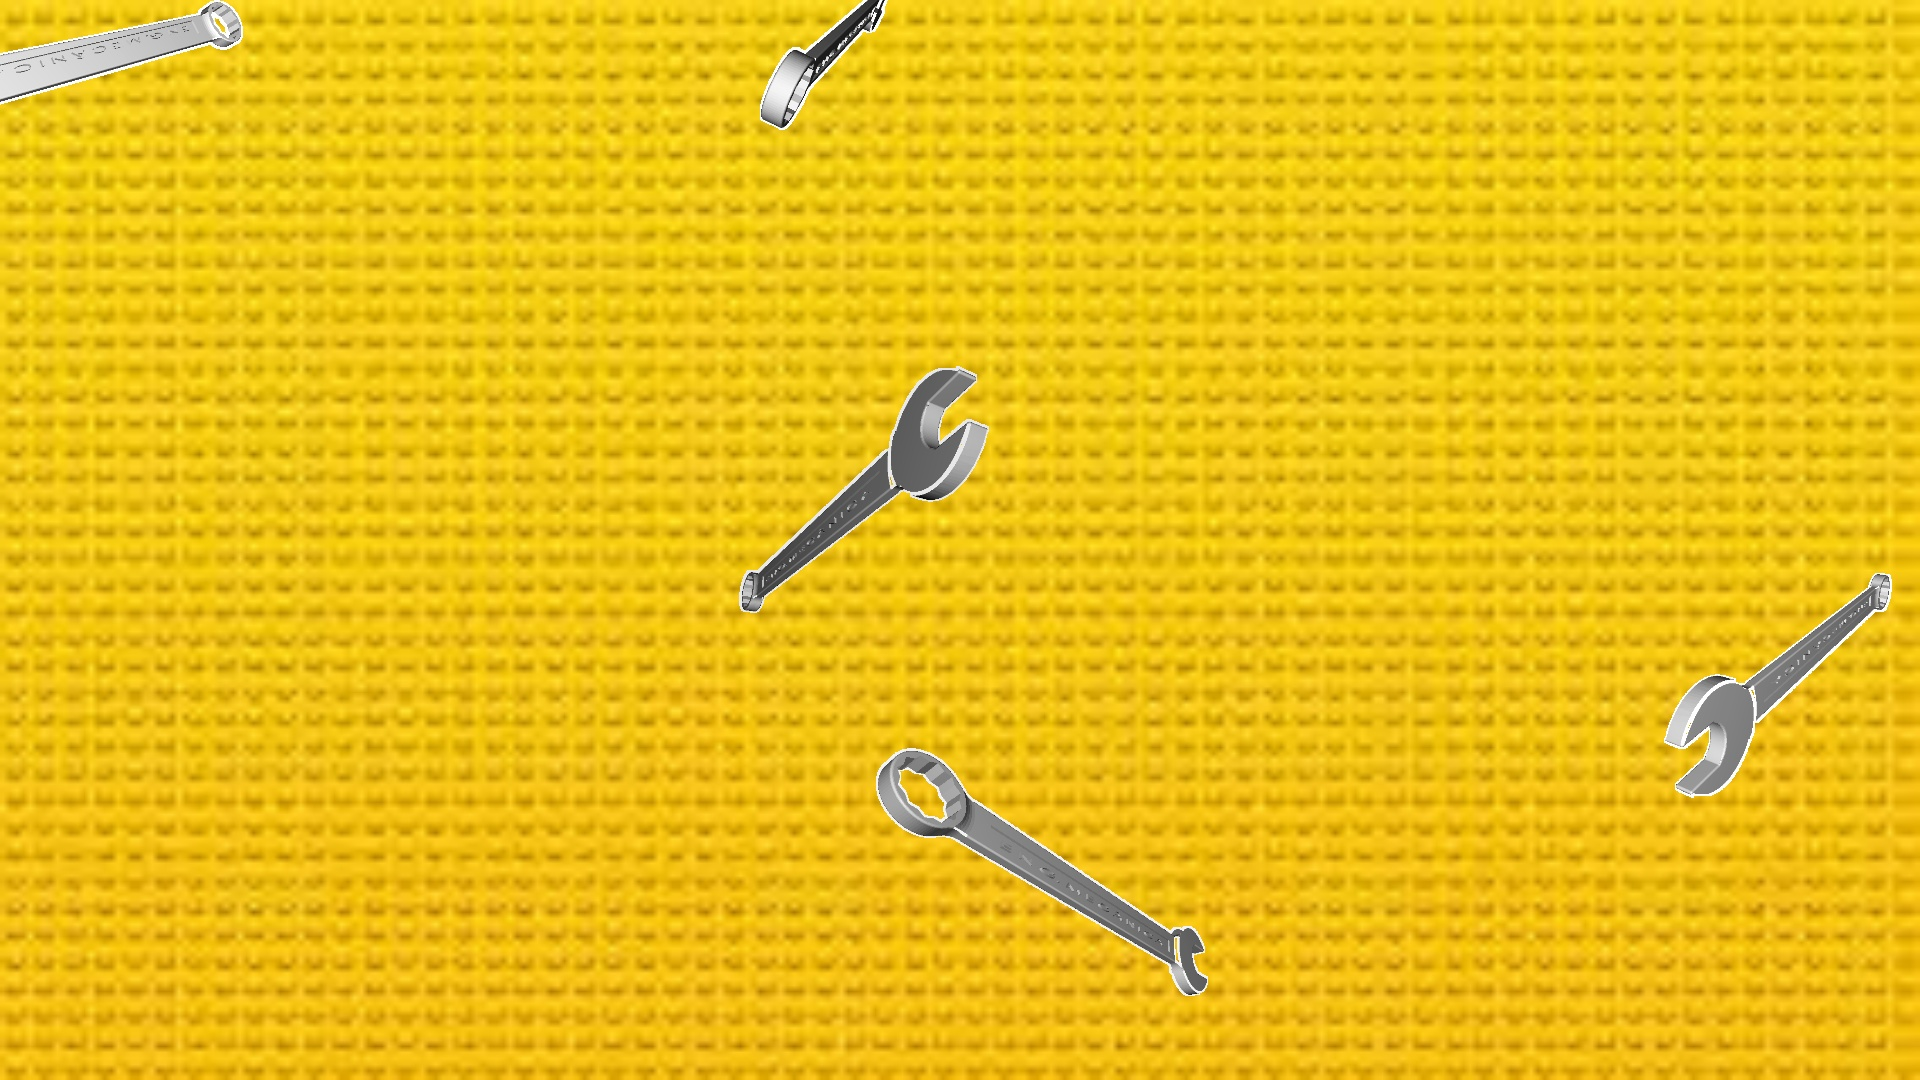Mixed Key: (876, 748, 1207, 996), (738, 367, 988, 612), (1664, 574, 1891, 796), (0, 0, 243, 104), (760, 0, 887, 129)
